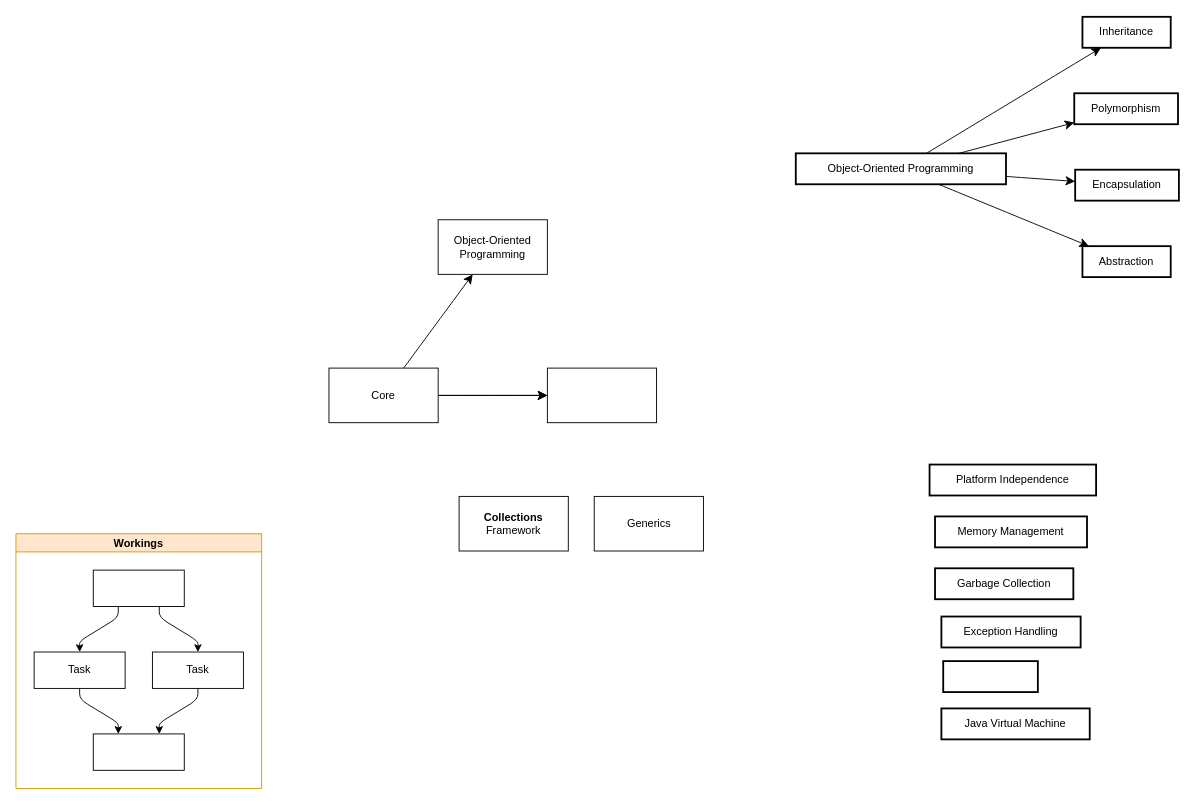
This 1196x804 diagram has some shape labels left out. The shapes that lost their labels are listed below. From the top down, each one's centre as x and y in pixels, then its label:
(601,395): Type
(138,588): Start
(990,676): Concurrency
(138,751): End
